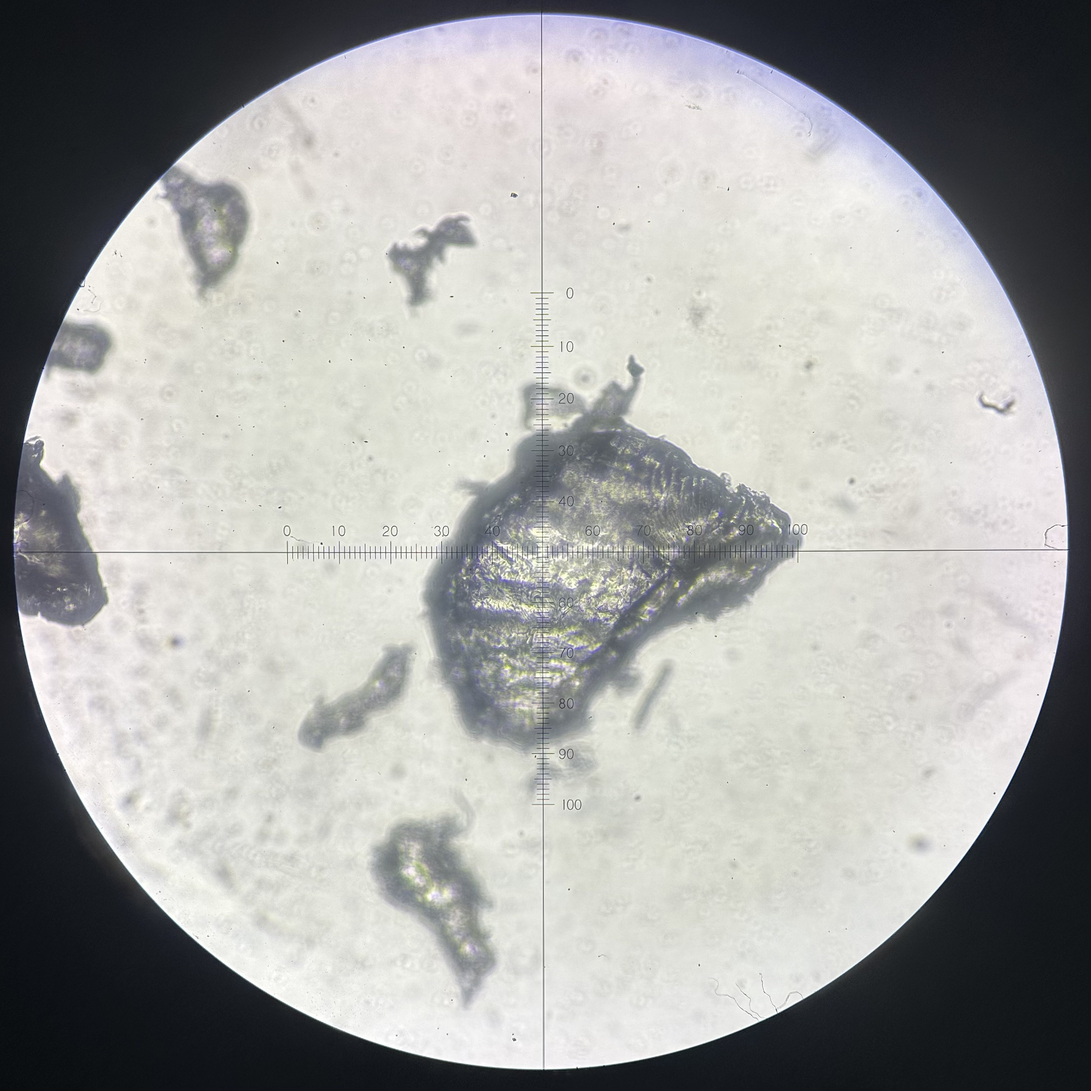microplastic: (418, 352, 808, 757), (371, 818, 498, 1008), (11, 435, 112, 629), (160, 163, 257, 297), (296, 642, 415, 751), (383, 213, 481, 310), (40, 318, 114, 378), (520, 380, 593, 429), (634, 665, 671, 732), (972, 387, 1017, 415)
